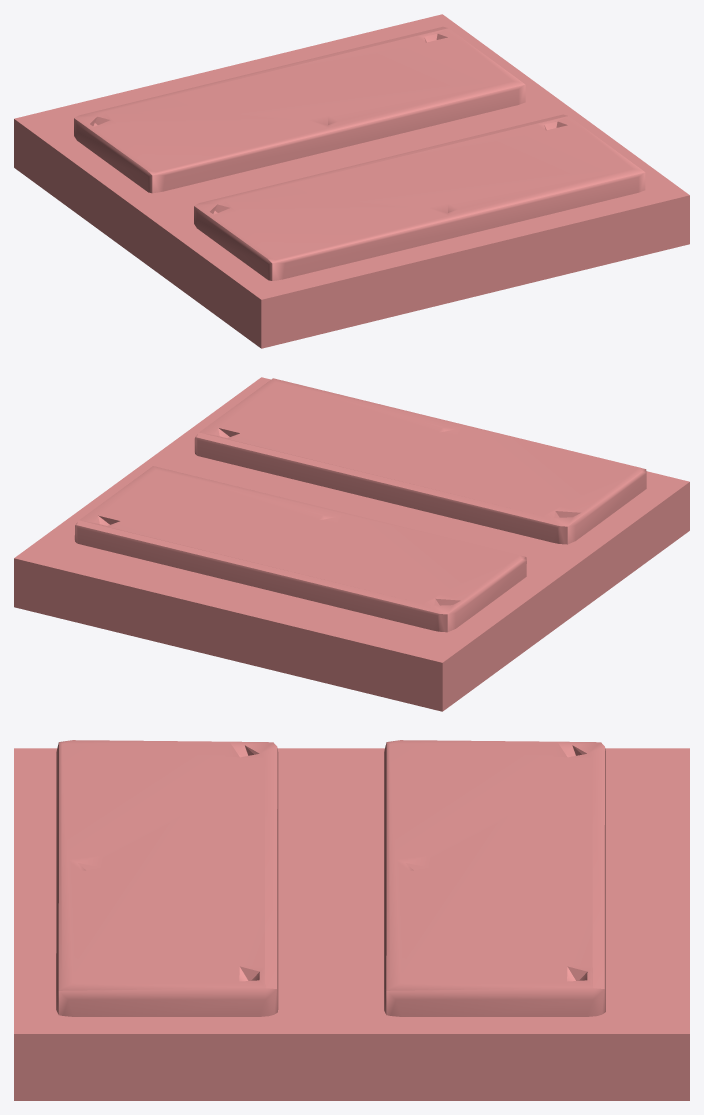
Rendered from ComplexWall_1x1_02_Final.fbx.
3 views of the same model, one above another, from view 1: azimuth 30°, elevation 25°; view 2: azimuth 150°, elevation 25°; view 3: azimuth 270°, elevation 25° (orthographic). The views are drawn at different scales.
Parts seen in each view (by area): view 1: Final_ComplexWall_1x1_02; view 2: Final_ComplexWall_1x1_02; view 3: Final_ComplexWall_1x1_02.
Boxes of the visible parts, box(x1,y1,x2,y2) form: Final_ComplexWall_1x1_02: box(14, 14, 689, 348); Final_ComplexWall_1x1_02: box(14, 377, 689, 711); Final_ComplexWall_1x1_02: box(14, 740, 689, 1100).
Size of the model in its own units: 200 by 30.5 by 200.
